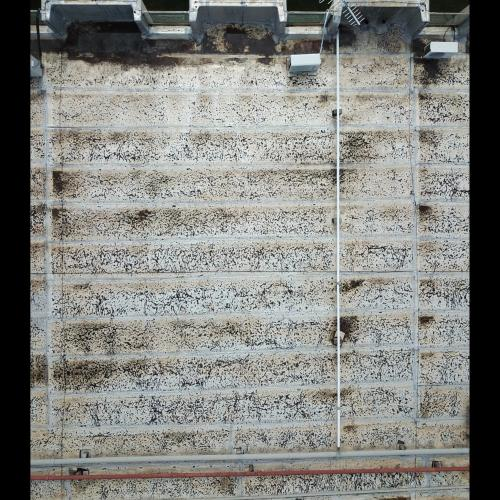conde: (420, 41, 462, 63), (288, 52, 325, 76), (32, 55, 47, 80)
